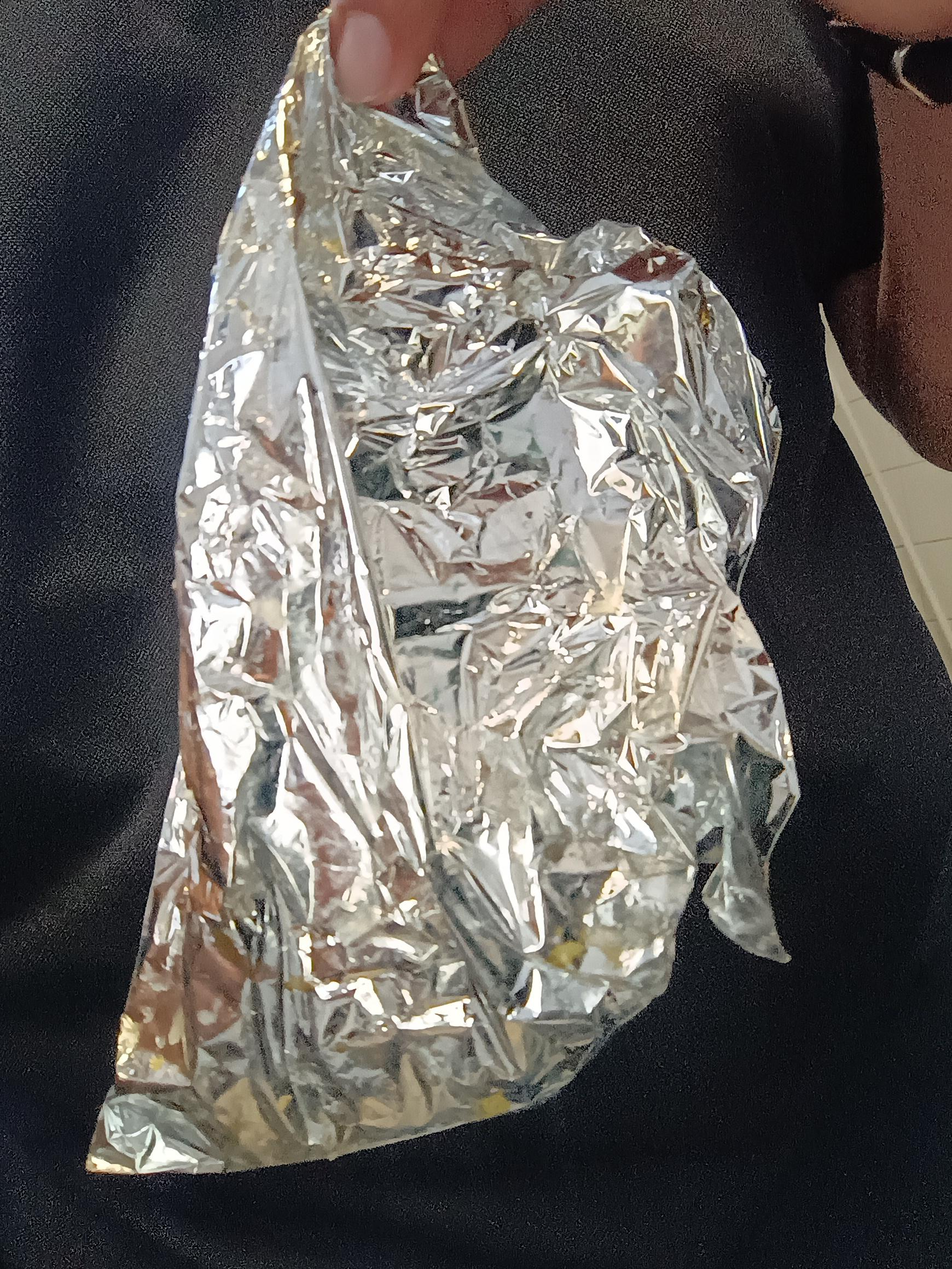Ordinario: (85, 4, 807, 1172)
